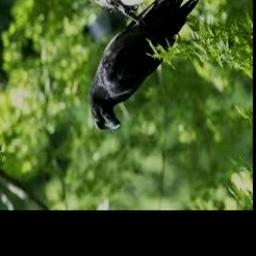Crow: (89, 0, 200, 134)
